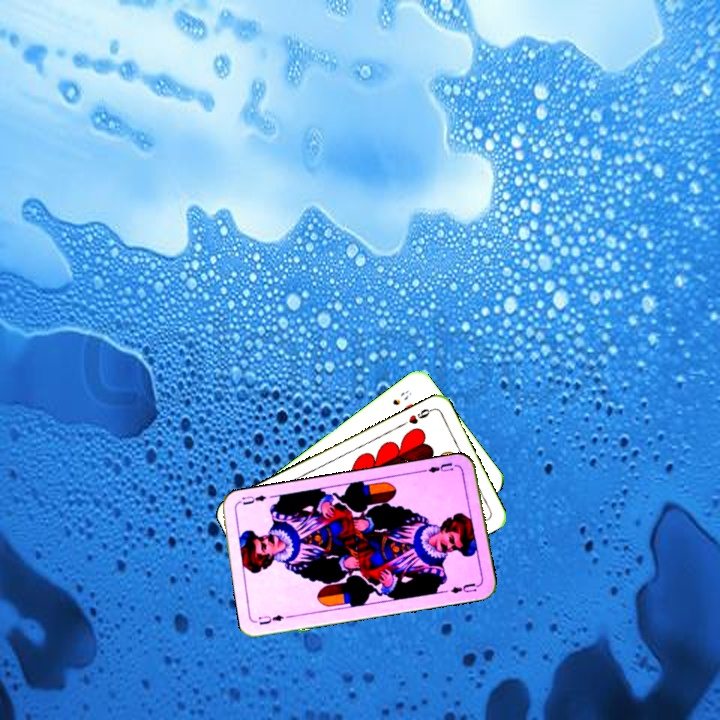EU: (424, 459, 456, 475), (254, 611, 286, 627)
H9: (398, 404, 436, 428)
S8: (389, 386, 414, 408)
